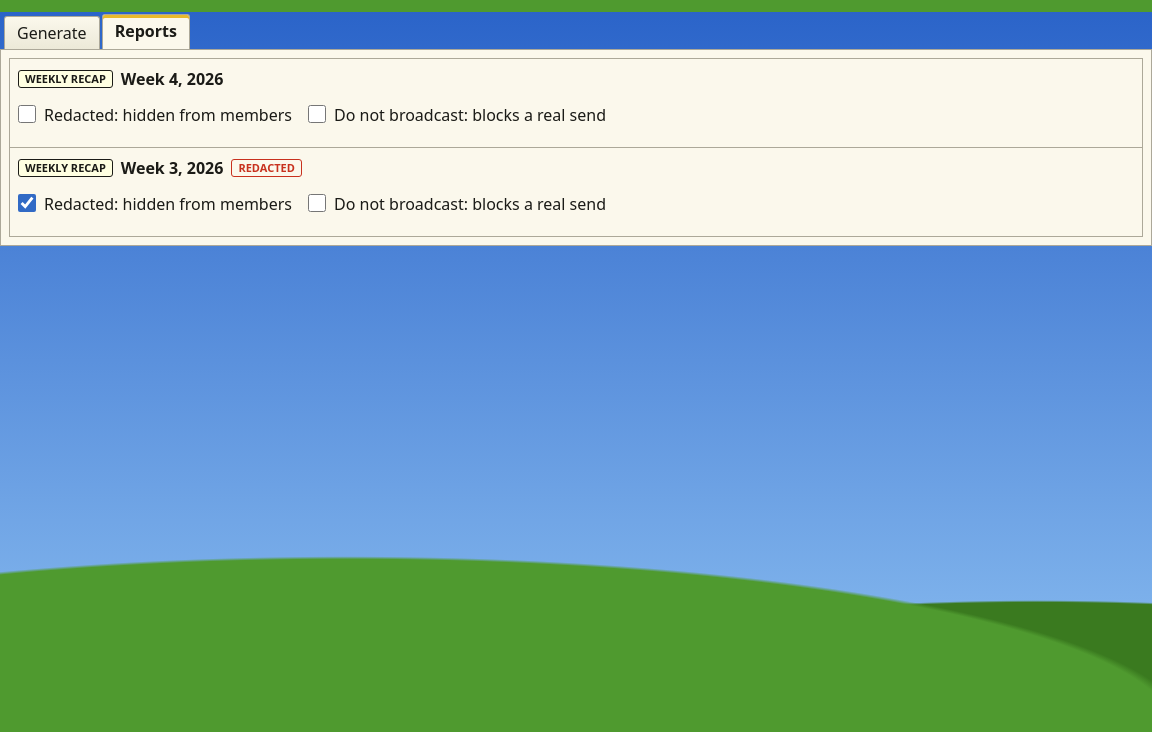
Test case: Admin: AI Review › shows a refused flag
What coordinates should you click on to do the following:
click the checkbox labelled "Do not broadcast: blocks a real send" below "Week 4, 2026"
I would click on:
 (317, 114)
Its box is [308,105,326,123].
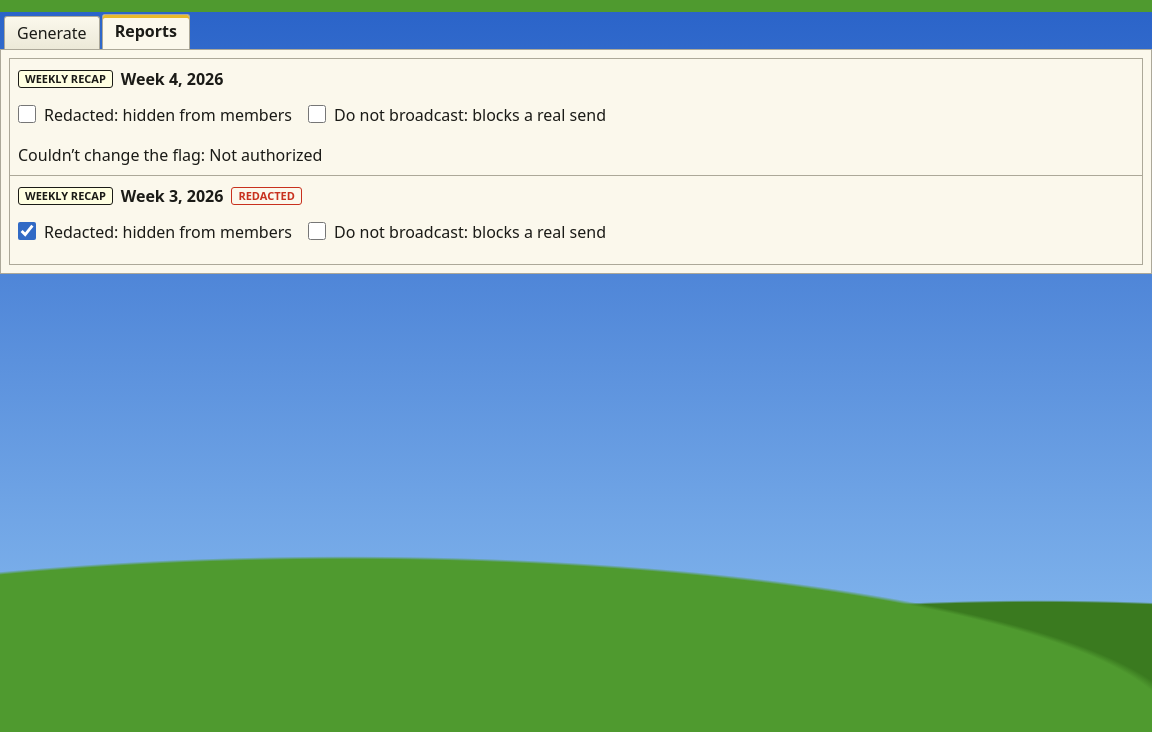
Expected: the message reads "Couldn’t change the flag: Not authorized", [18,144,322,166]
